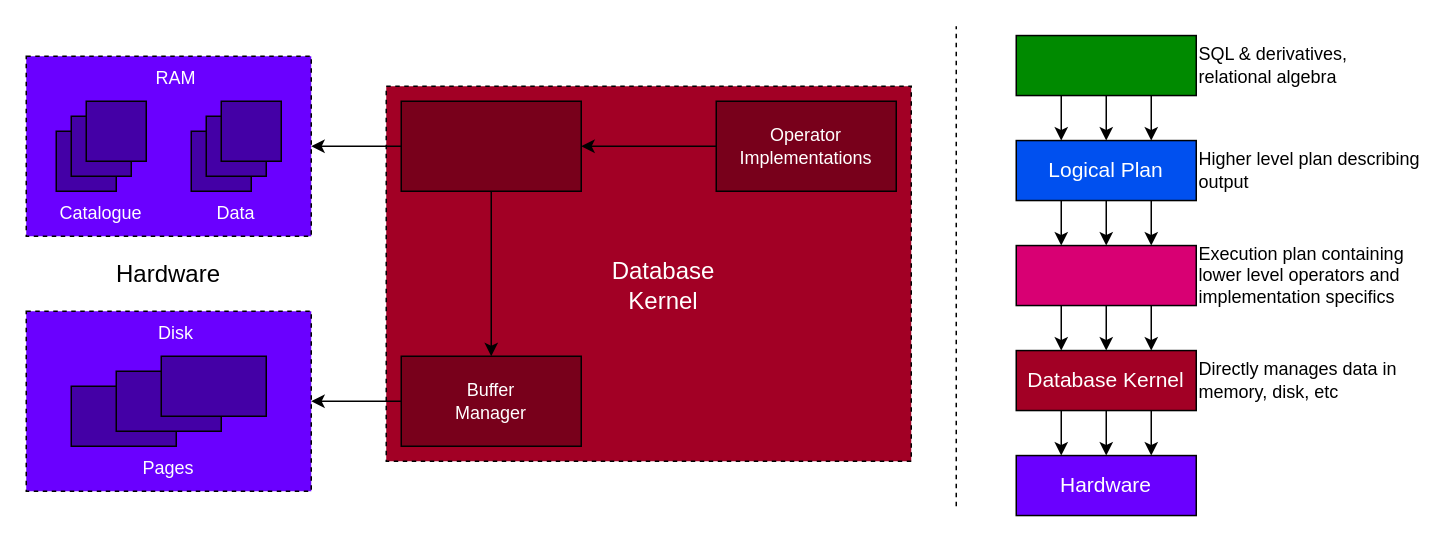
Image size: 1448x543. Some labels were removed from this diagram. Here are the shapes that lost their labels. From the top down, the centre of each, then its label:
At point (1105, 65): "External Interface".
At point (490, 145): "Storage Manager".
At point (1105, 275): "Physical Plan".
